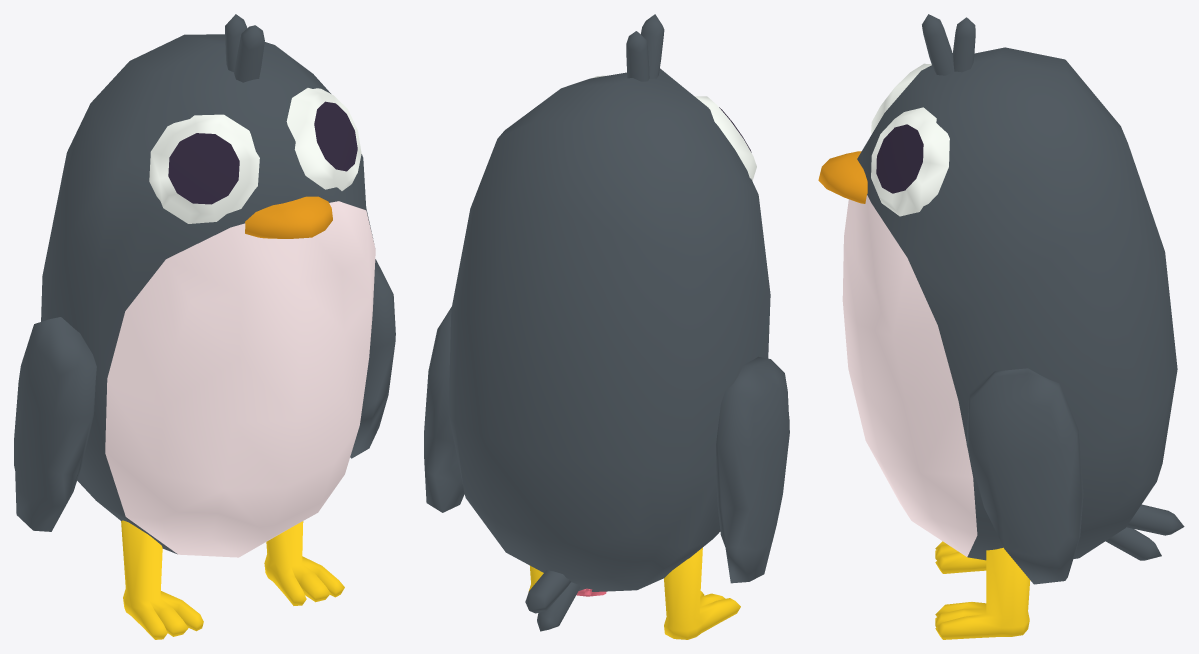
Rendered from penguin.gltf.
The picture shows the model from 3 angles, left to right: view 1: azimuth 30°, elevation 25°; view 2: azimuth 150°, elevation 25°; view 3: azimuth 270°, elevation 25°; orthographic projection. The views are drawn at different scales.
Visible parts, largest first — view 1: huitugou_5168_88; view 2: huitugou_5168_88; view 3: huitugou_5168_88.
Part boxes in pixels (x1,y1,x2,y2): huitugou_5168_88: [14, 14, 395, 639]; huitugou_5168_88: [424, 14, 789, 639]; huitugou_5168_88: [818, 14, 1184, 639].
Bounding box in the file's own units: 0.2779 × 0.4547 × 0.2593.
1 material, 1 textured.
